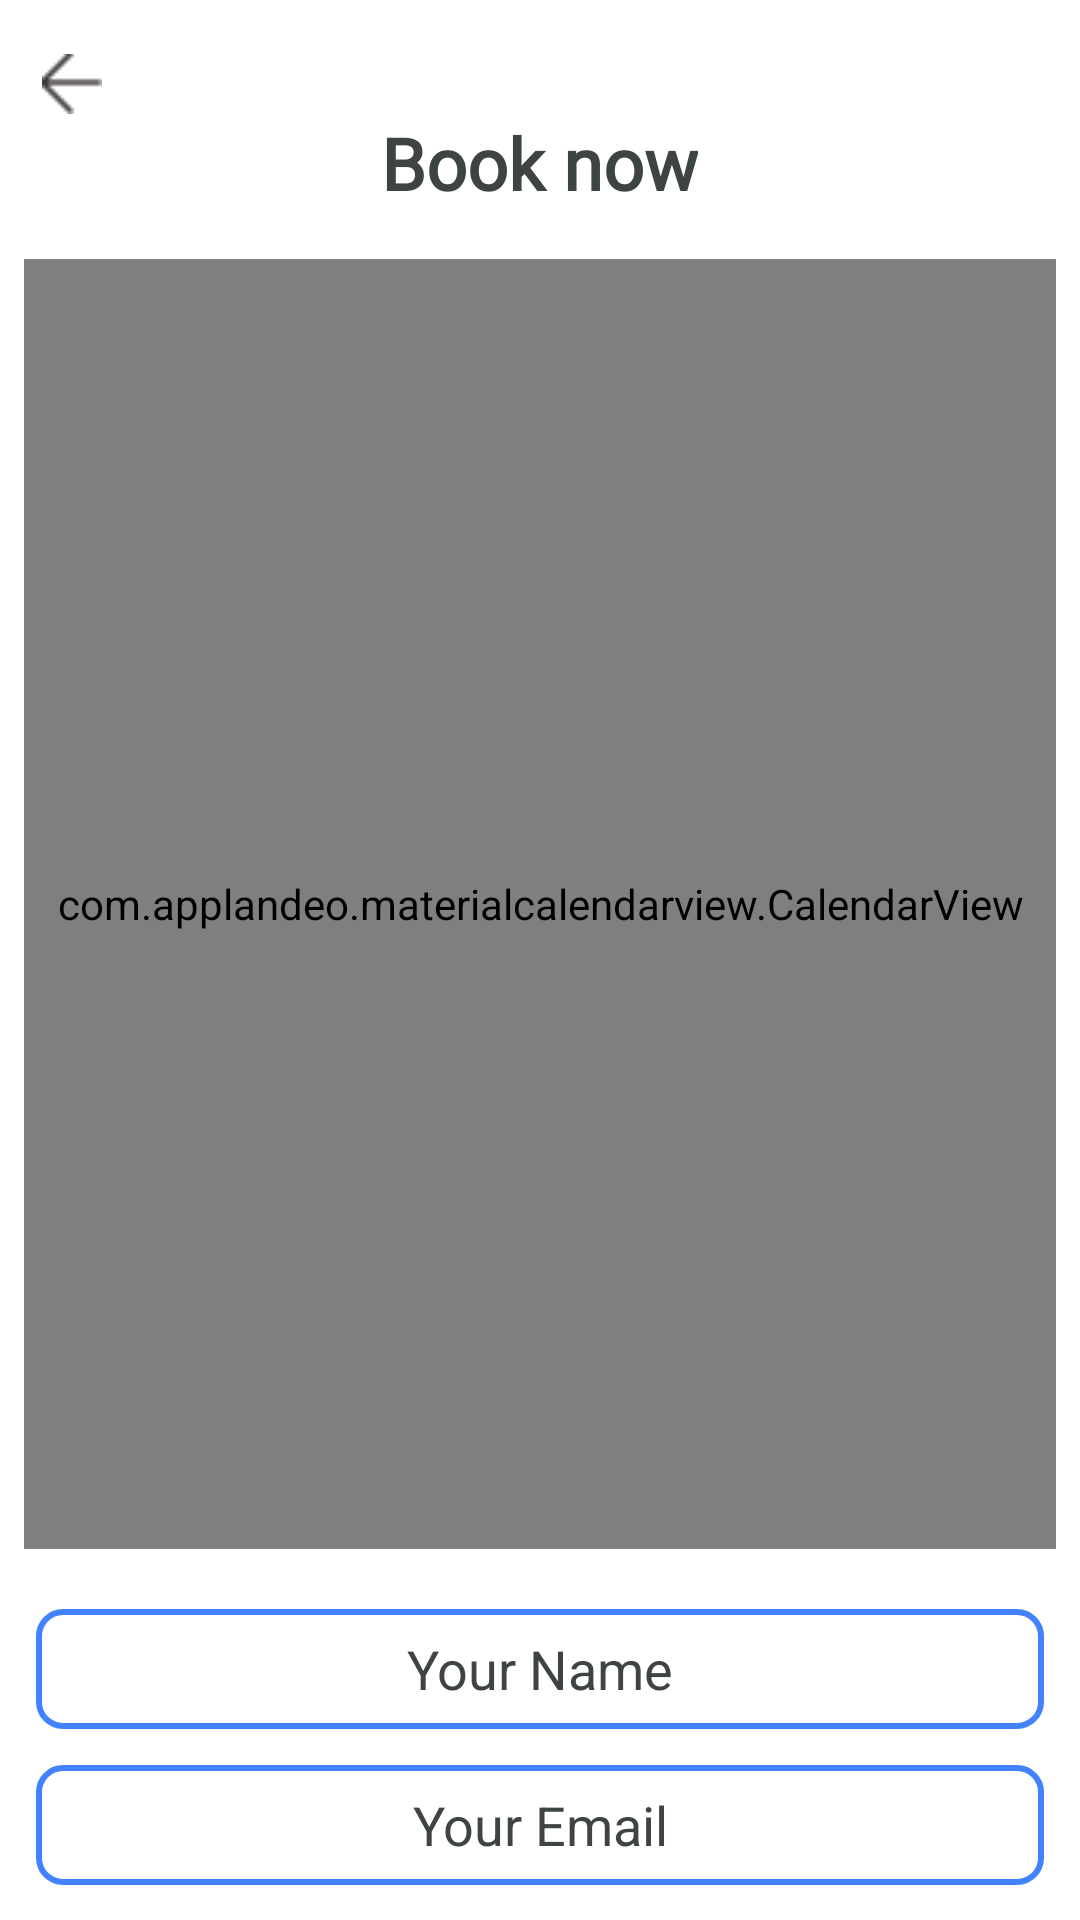

Named icons in this screenshot (1080px×1920px) and their centers, (x,y):
back: (72,84)
